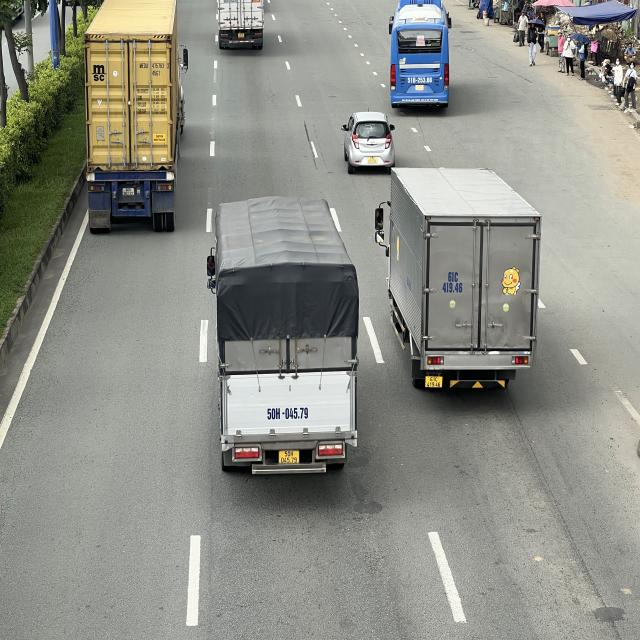car: (342, 112, 398, 174)
coach: (388, 1, 452, 107)
container: (83, 0, 189, 230)
truck: (207, 192, 362, 482), (373, 164, 545, 398)
